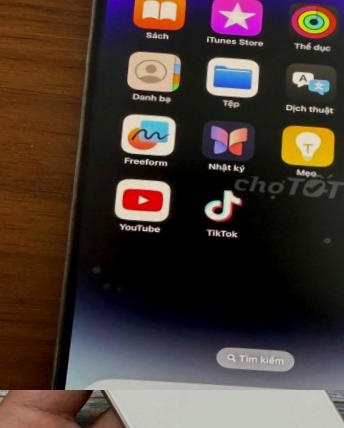scratch: (80, 252, 141, 306)
screen_defect: (307, 222, 344, 256)
